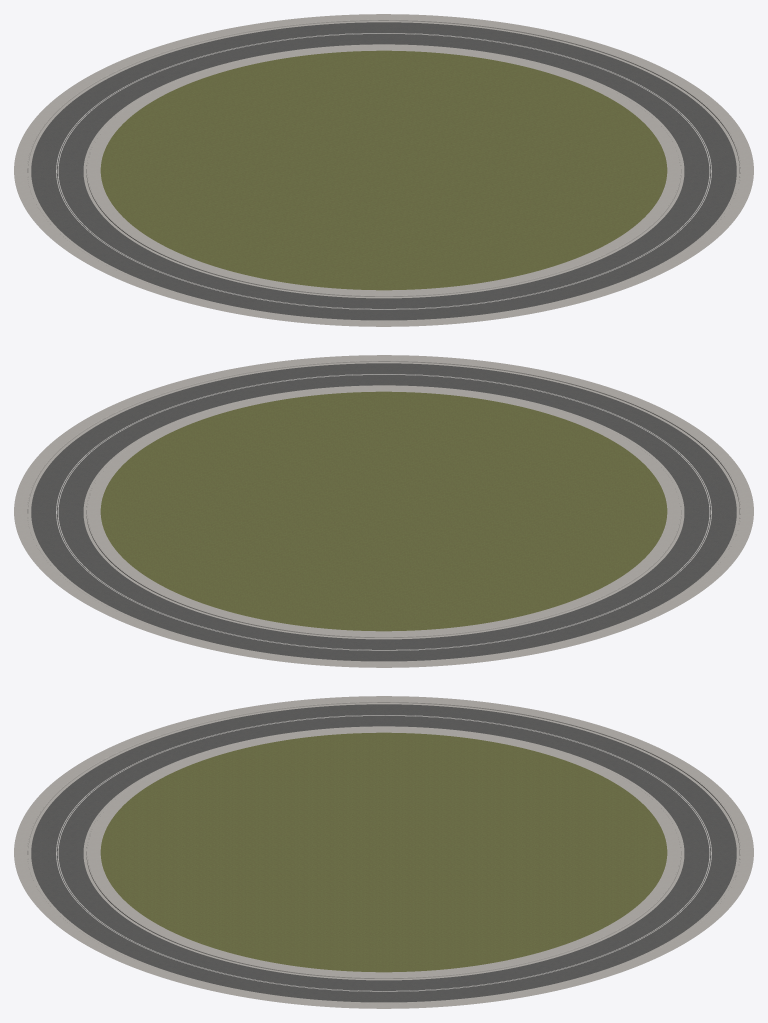
The model's file is Track01.fbx.
The picture shows the model from 3 angles, top to bottom: view 1: azimuth 30°, elevation 25°; view 2: azimuth 150°, elevation 25°; view 3: azimuth 270°, elevation 25°; orthographic projection.
Parts seen in each view (by area): view 1: Terrain_3Node, Terrain_1Node, TerrainNode, Terrain_2Node, RoadsNode, Roads_3Node, Roads_1Node, Roads_2Node; view 2: Terrain_1Node, Terrain_3Node, Terrain_2Node, TerrainNode, Roads_2Node, Roads_1Node, Roads_3Node, RoadsNode; view 3: Terrain_1Node, Terrain_3Node, TerrainNode, Terrain_2Node, Roads_1Node, Roads_3Node, Roads_2Node, RoadsNode.
Boxes of the visible parts, <box> form: Terrain_3Node: <box>139,170,525,290</box>; Terrain_1Node: <box>100,66,384,230</box>; TerrainNode: <box>243,50,628,169</box>; Terrain_2Node: <box>385,110,667,273</box>; RoadsNode: <box>200,14,703,110</box>; Roads_3Node: <box>64,230,569,326</box>; Roads_1Node: <box>14,35,242,248</box>; Roads_2Node: <box>527,92,753,305</box>; Terrain_1Node: <box>242,511,628,631</box>; Terrain_3Node: <box>383,407,667,571</box>; Terrain_2Node: <box>139,391,524,510</box>; TerrainNode: <box>100,451,382,614</box>; Roads_2Node: <box>64,355,567,451</box>; Roads_1Node: <box>198,571,703,667</box>; Roads_3Node: <box>525,376,753,589</box>; RoadsNode: <box>14,433,240,646</box>; Terrain_1Node: <box>384,732,667,852</box>; Terrain_3Node: <box>100,732,383,852</box>; TerrainNode: <box>384,853,667,972</box>; Terrain_2Node: <box>100,853,383,972</box>; Roads_1Node: <box>384,696,753,853</box>; Roads_3Node: <box>14,696,383,853</box>; Roads_2Node: <box>14,853,383,1008</box>; RoadsNode: <box>384,853,753,1008</box>.
Size of the model in its own units: 113 by 113 by 0.1524.
